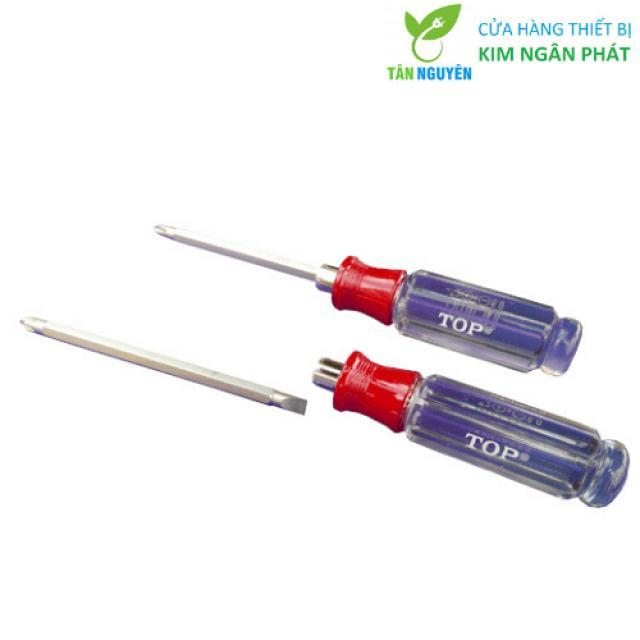screwdriver: (149, 222, 586, 380)
